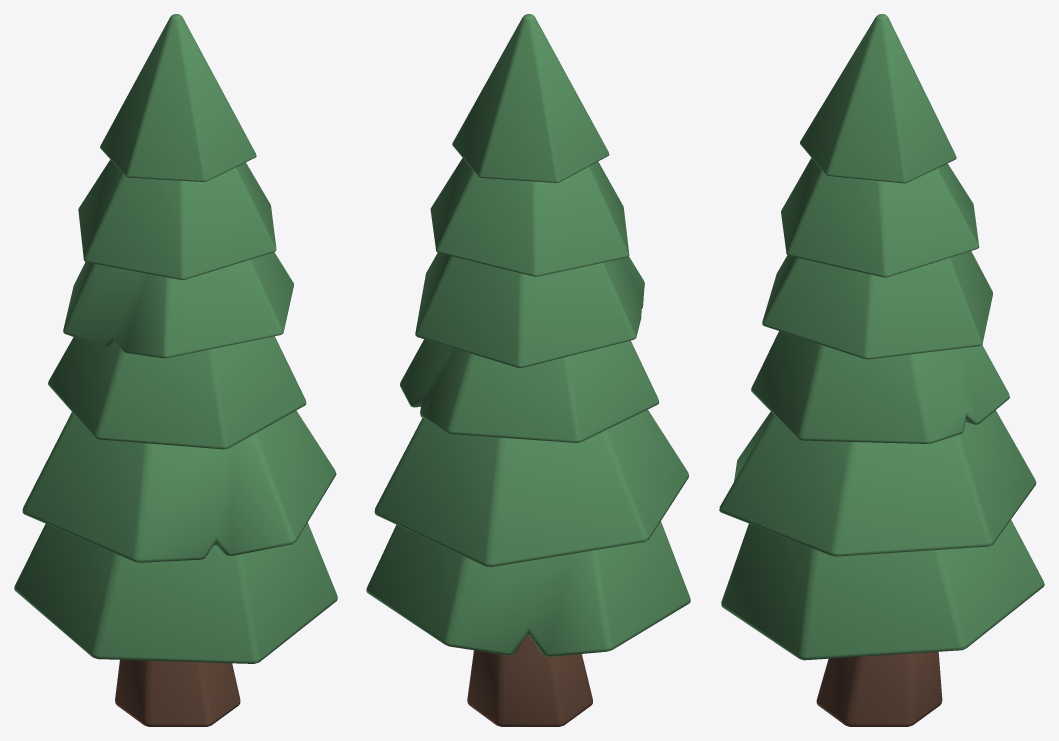
Rendered from basic_tree.glb.
The picture shows the model from 3 angles, left to right: view 1: azimuth 30°, elevation 25°; view 2: azimuth 150°, elevation 25°; view 3: azimuth 270°, elevation 25°; orthographic projection.
Parts seen in each view (by area): view 1: Basic; view 2: Basic; view 3: Basic.
Boxes of the visible parts, x1,y1,x2,y2 form: Basic: (14, 14, 337, 726); Basic: (366, 14, 690, 726); Basic: (719, 14, 1044, 726).
Size of the model in its own units: 4.09 by 9.91 by 4.24.
